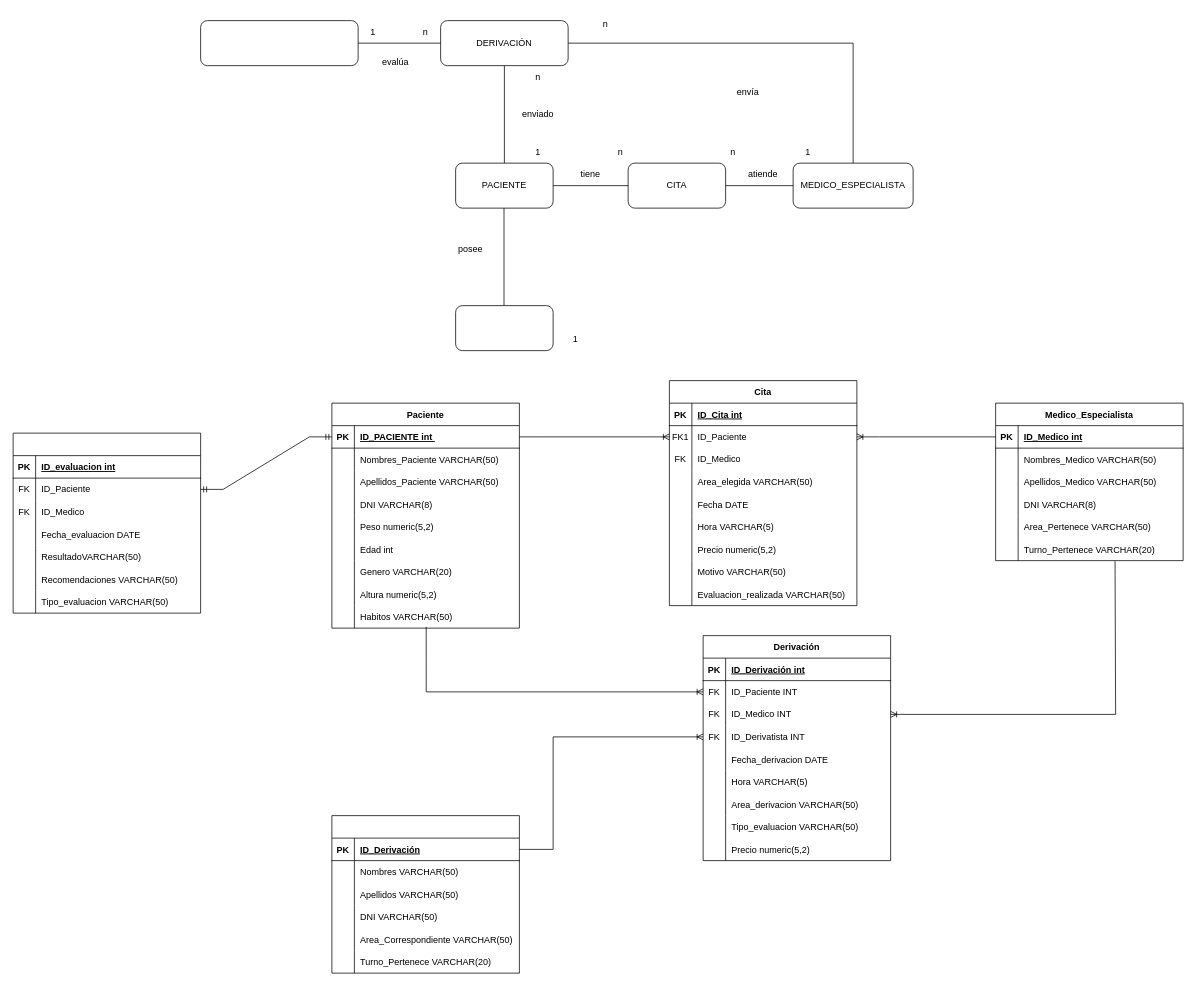
Some shapes in this 1196 by 986 pixel diagram are drawn without their labels. Each missing label, with the box of its shape:
Especialista_Derivación: (331, 815, 519, 973)
ESPECIALISTA_DERIVATISTA: (200, 20, 358, 66)
HISTORIAL_DE _EVALUACIONES: (455, 305, 553, 351)
Historial_de_evaluaciones: (12, 432, 201, 613)
